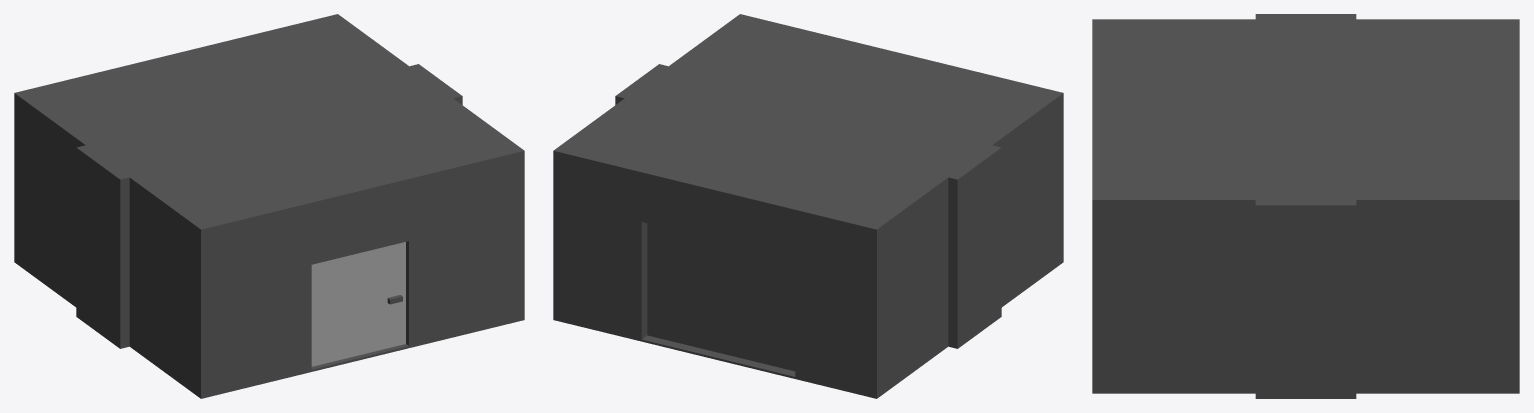
The model's file is Immeuble1bas.fbx.
3 views of the same model, side by side, from view 1: azimuth 30°, elevation 25°; view 2: azimuth 150°, elevation 25°; view 3: azimuth 270°, elevation 25° (orthographic). The views are drawn at different scales.
Parts seen in each view (by area): view 1: Cube.001; view 2: Cube.001; view 3: Cube.001.
Part boxes in pixels (left/top/right/bottom): Cube.001: left=14, top=14, right=524, bottom=398; Cube.001: left=553, top=14, right=1063, bottom=398; Cube.001: left=1092, top=14, right=1519, bottom=398.
Size of the model in its own units: 2116 by 1000 by 2000.
